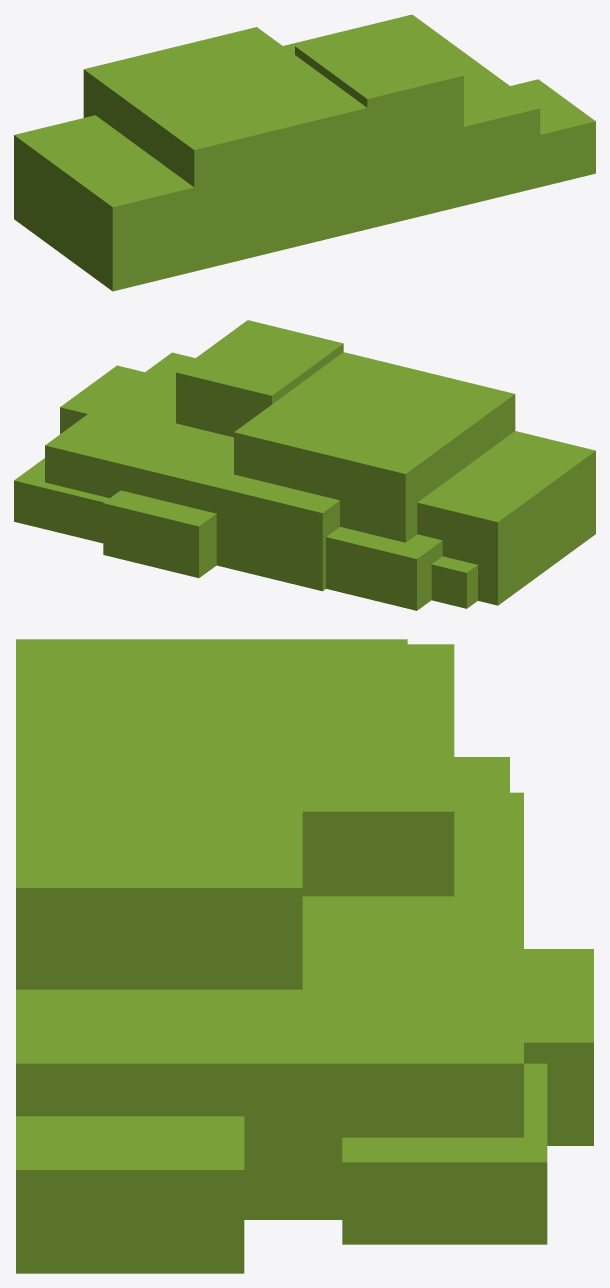
The model's file is Semak2.fbx.
3 views of the same model, one above another, from view 1: azimuth 30°, elevation 25°; view 2: azimuth 150°, elevation 25°; view 3: azimuth 270°, elevation 25° (orthographic). The views are drawn at different scales.
Parts seen in each view (by area): view 1: cube, cube_1, cube_2, cube_3, cube_7; view 2: cube, cube_1, cube_2, cube_3, cube_4, cube_5, cube_8, cube_6, cube_7; view 3: cube_1, cube, cube_3, cube_7, cube_8, cube_4, cube_2, cube_5.
Part boxes in pixels (x1,y1,x2,y2): cube: (83,27,367,271); cube_1: (260,14,540,254); cube_2: (14,115,194,291); cube_3: (295,22,463,150); cube_7: (500,79,595,196); cube: (234,352,515,542); cube_1: (45,352,339,591); cube_2: (417,431,595,605); cube_3: (176,320,343,437); cube_4: (103,490,216,577); cube_5: (326,527,442,610); cube_8: (14,458,109,543); cube_6: (431,556,477,608); cube_7: (60,365,144,433); cube_1: (16,792,523,1219); cube: (16,644,454,896); cube_3: (16,794,302,989); cube_7: (16,1116,244,1273); cube_8: (342,1063,547,1244); cube_4: (524,949,593,1145); cube_2: (16,639,407,644); cube_5: (454,757,509,792).
Bounding box in the file's own units: 492 × 127 × 257.
1 material, 1 textured.
